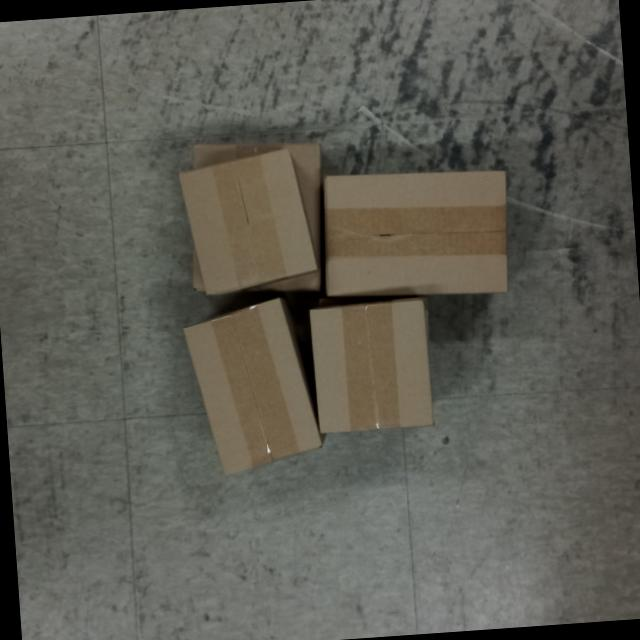box: (314, 155, 518, 310), (174, 288, 326, 483), (168, 140, 326, 307), (306, 293, 440, 440)
